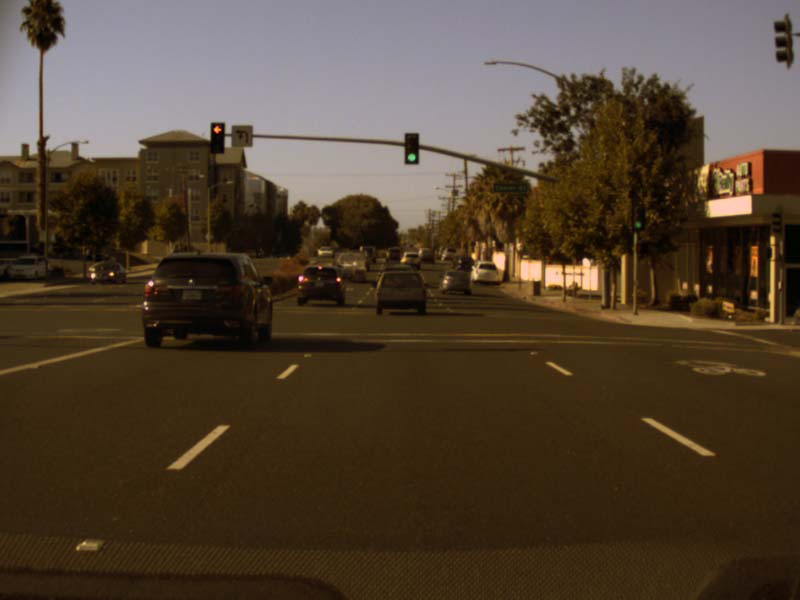Green: (404, 133, 418, 163), (634, 206, 643, 229)
Red: (211, 123, 223, 153)
